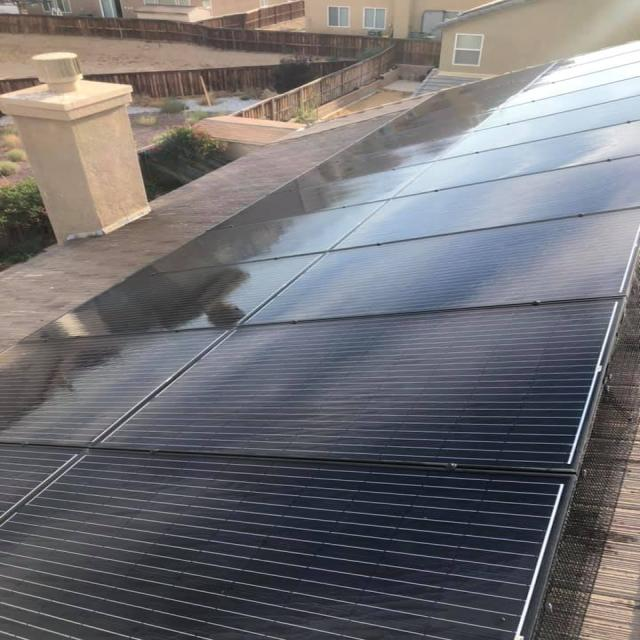clean-solar-panel: (3, 44, 637, 640)
